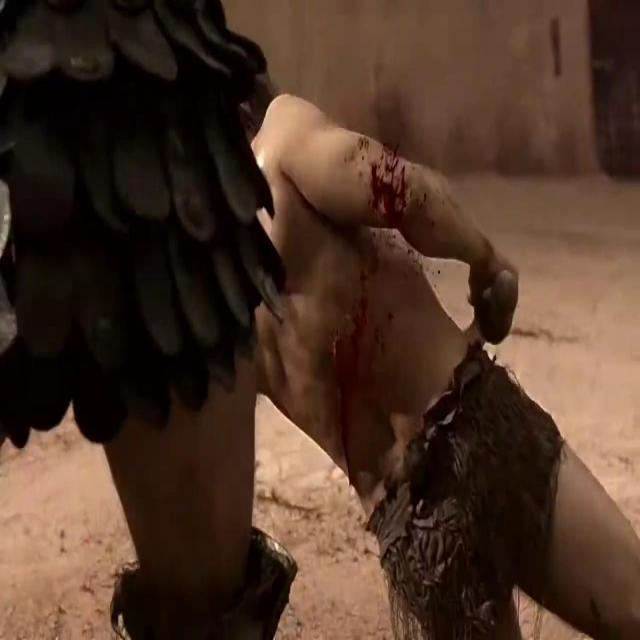flood: (338, 125, 419, 507)
